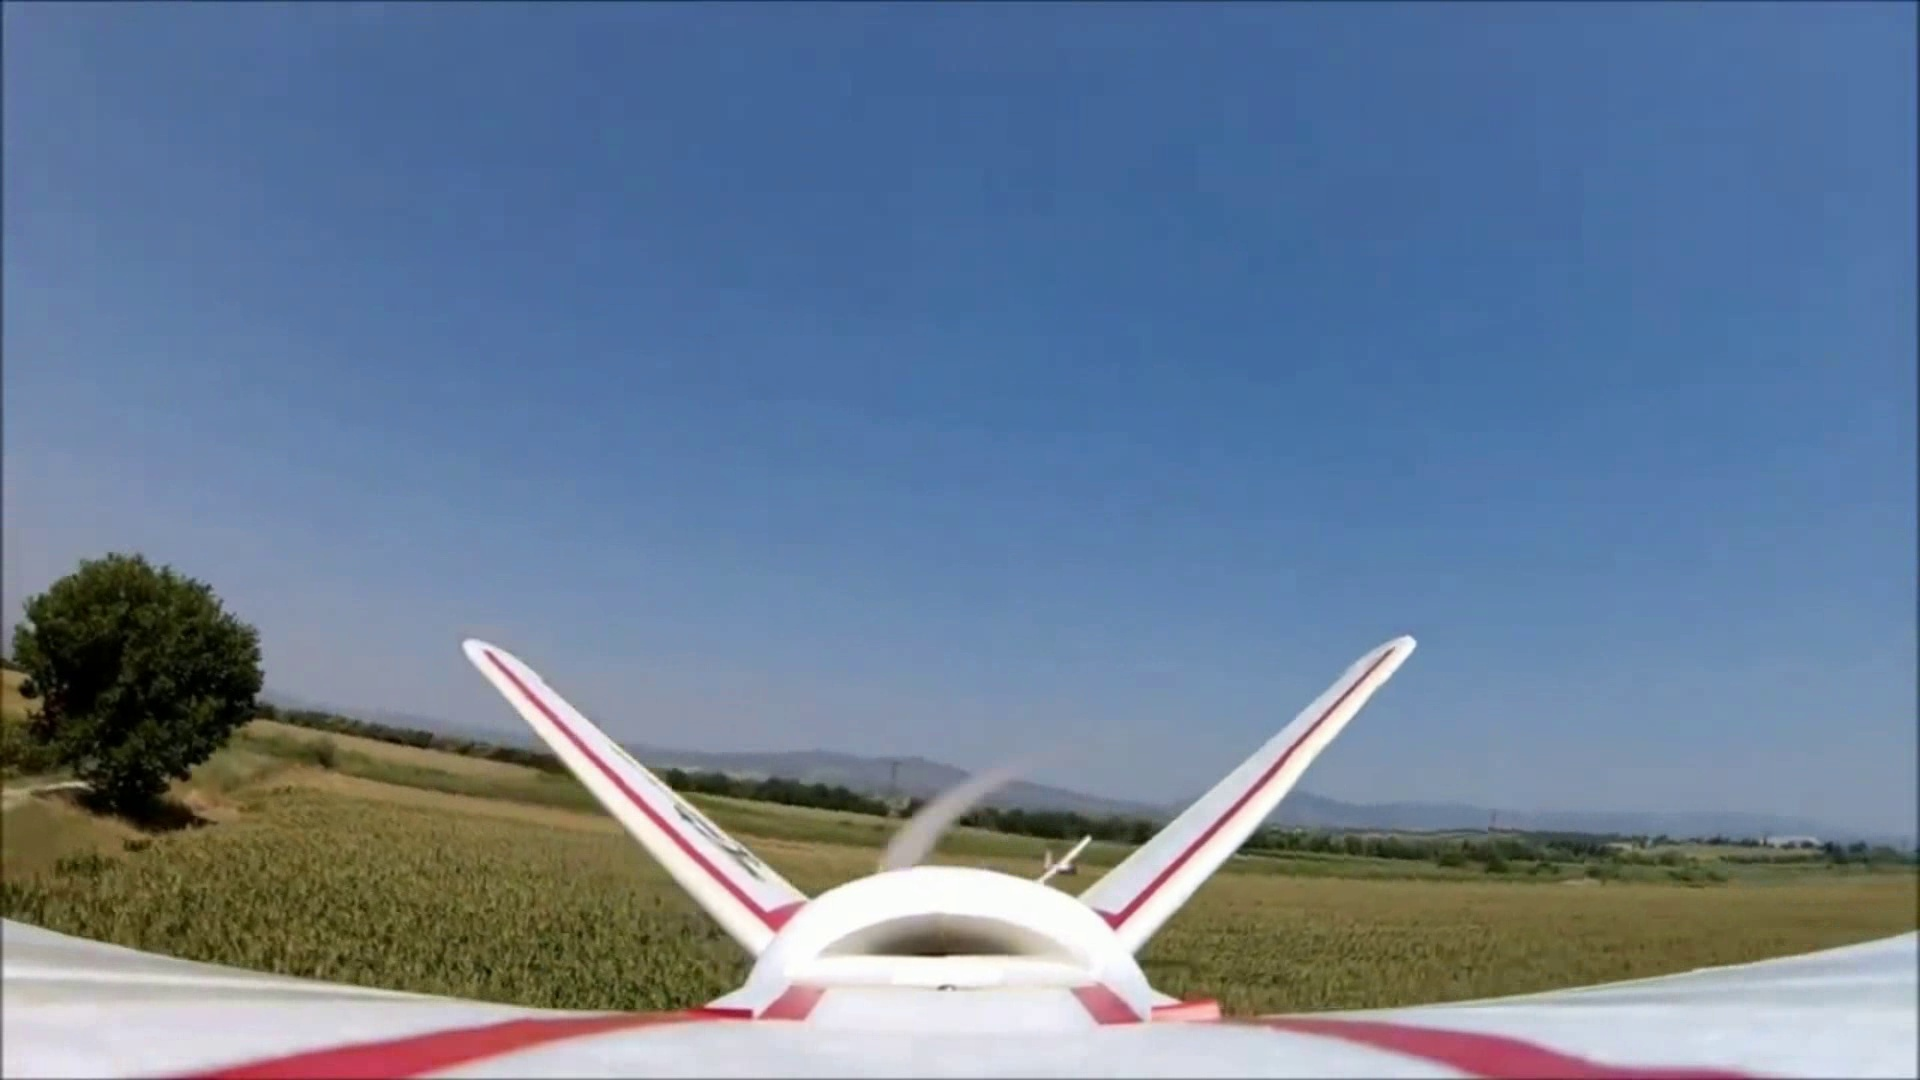airplane: (12, 634, 1458, 1065), (446, 632, 1414, 1030)
